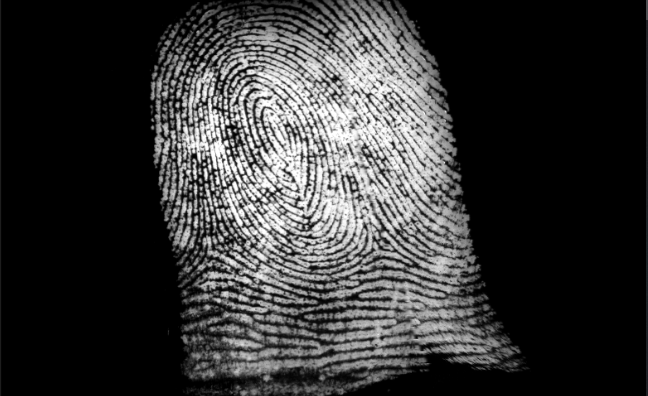nucelo: (249, 95, 290, 138)
verticilo: (354, 224, 398, 261), (192, 239, 231, 270)
